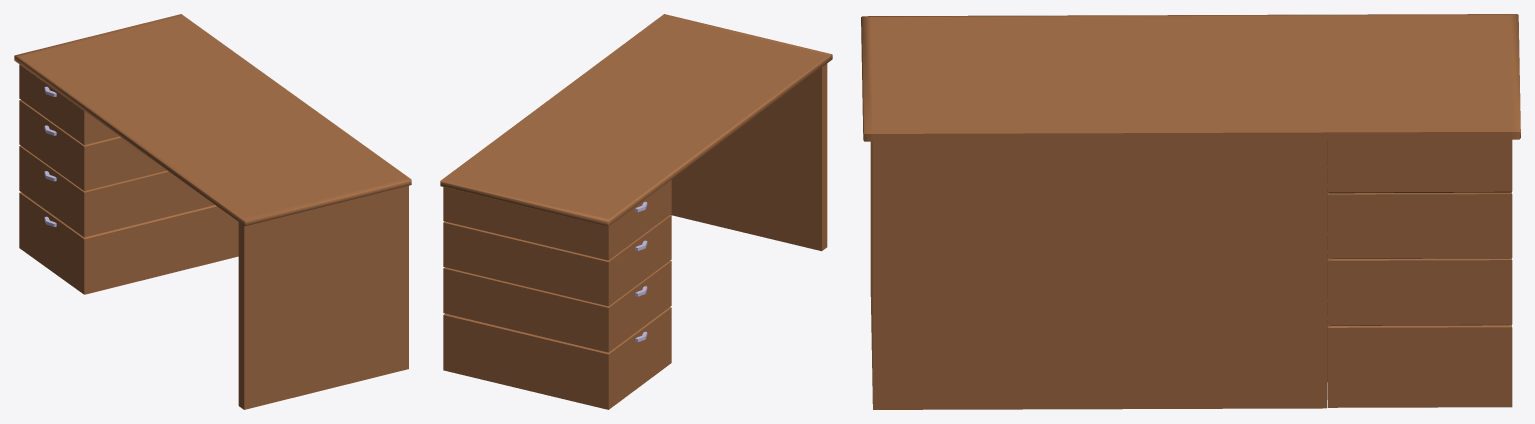
The model's file is desk2.glb.
3 views of the same model, side by side, from view 1: azimuth 30°, elevation 25°; view 2: azimuth 150°, elevation 25°; view 3: azimuth 270°, elevation 25° (orthographic). The views are drawn at different scales.
Visible parts, largest first — view 1: Desk.004_275.007, Cube.077_268.007; view 2: Desk.004_275.007, Cube.077_268.007; view 3: Desk.004_275.007, Cube.077_268.007.
Boxes of the visible parts, x1,y1,x2,y2 form: Desk.004_275.007: (14,14,411,409); Cube.077_268.007: (19,64,238,294); Desk.004_275.007: (440,14,832,251); Cube.077_268.007: (443,179,671,409); Desk.004_275.007: (861,14,1520,409); Cube.077_268.007: (1327,139,1512,407).
Size of the model in its own units: 0.6824 by 0.72 by 1.56.
